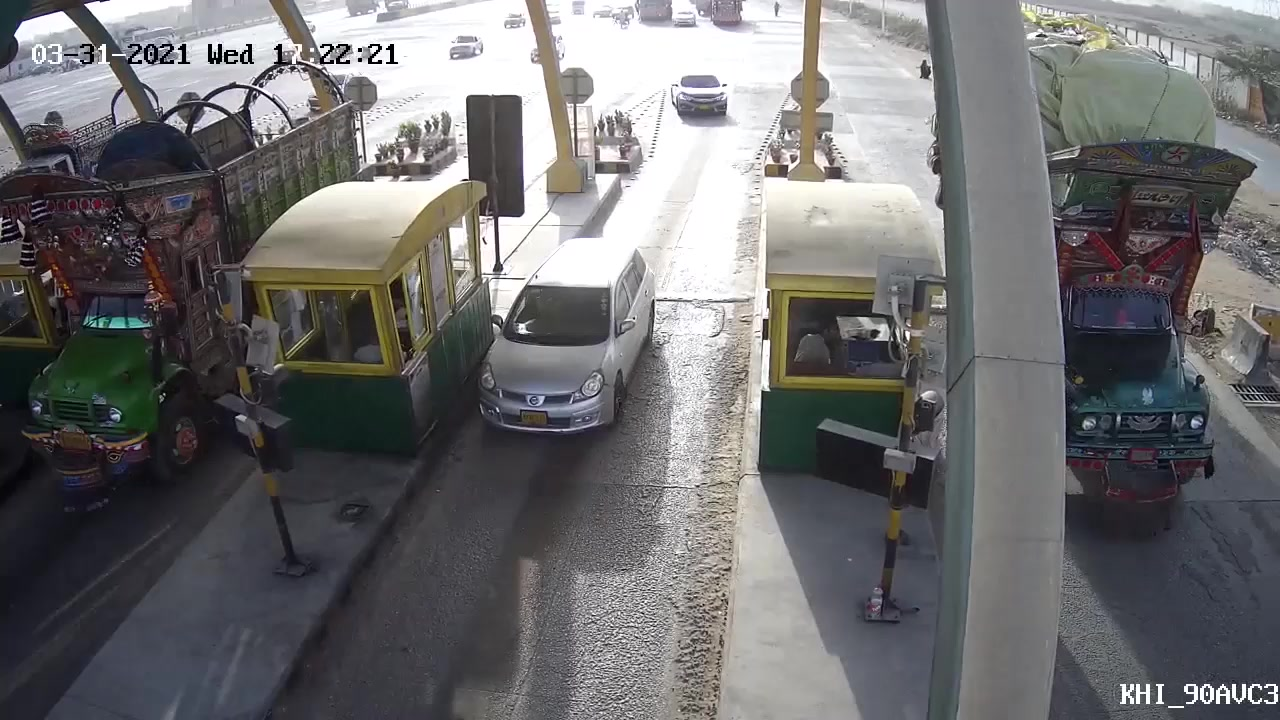F1: (475, 226, 663, 445)
